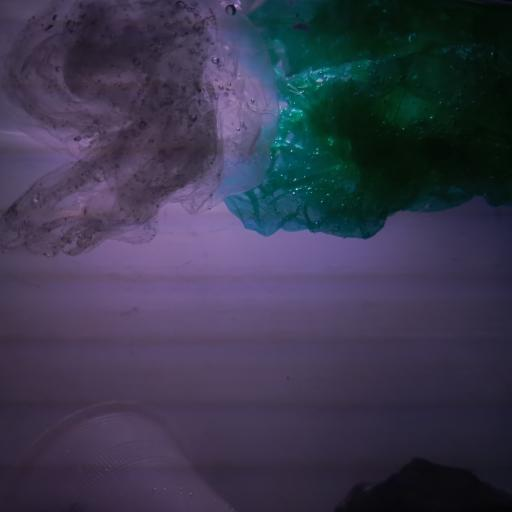plastic_bag: (0, 0, 276, 261), (221, 0, 512, 243)
plastic_cup: (0, 397, 239, 512)
